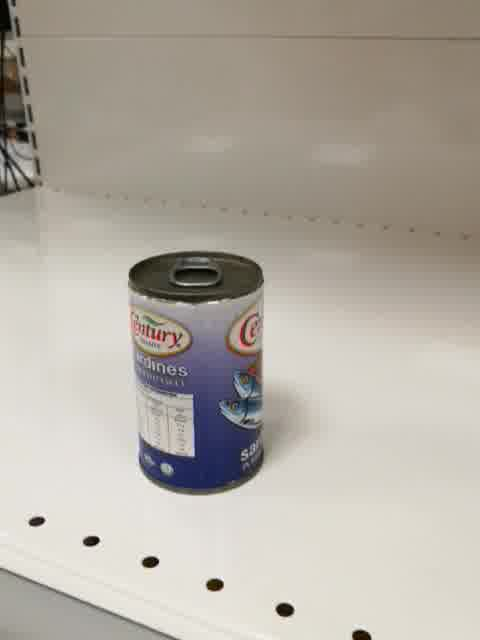sardine: (126, 249, 266, 497)
